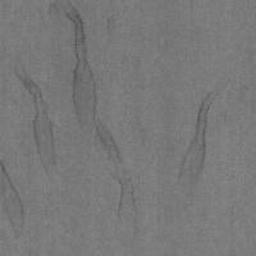Water spot: (46, 0, 147, 243), (177, 79, 229, 196), (13, 56, 59, 179), (0, 159, 27, 241)
